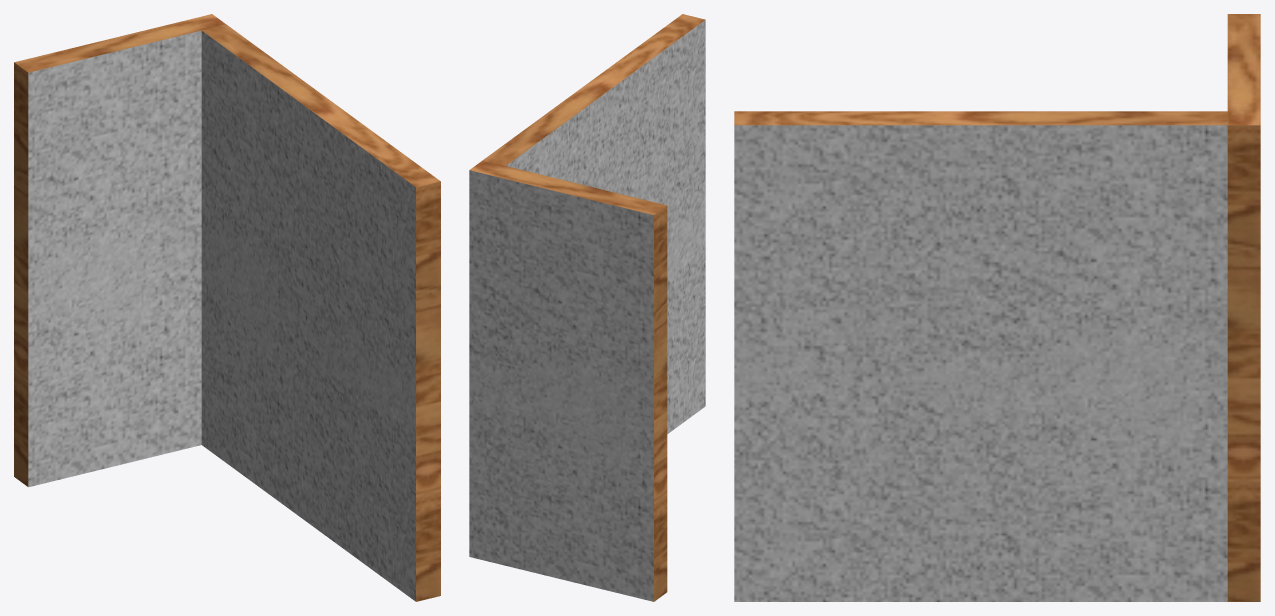
The model's file is townDungeonInt1.gltf.
The picture shows the model from 3 angles, left to right: view 1: azimuth 30°, elevation 25°; view 2: azimuth 150°, elevation 25°; view 3: azimuth 270°, elevation 25°; orthographic projection. The views are drawn at different scales.
Visible parts, largest first — view 1: townDungeonInt1; view 2: townDungeonInt1; view 3: townDungeonInt1.
Boxes of the visible parts, x1,y1,x2,y2 form: townDungeonInt1: (14, 14, 440, 601); townDungeonInt1: (469, 14, 705, 601); townDungeonInt1: (734, 14, 1260, 601).
Bounding box in the file's own units: 2 × 4 × 4.
3 materials, 3 textured.
